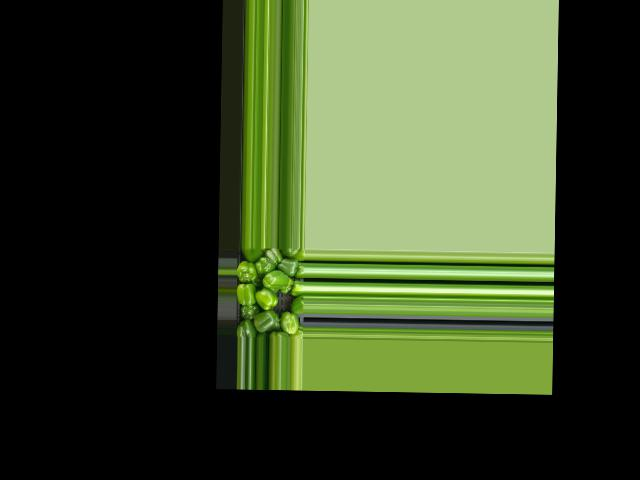bell_pepper: (246, 246, 265, 261)
